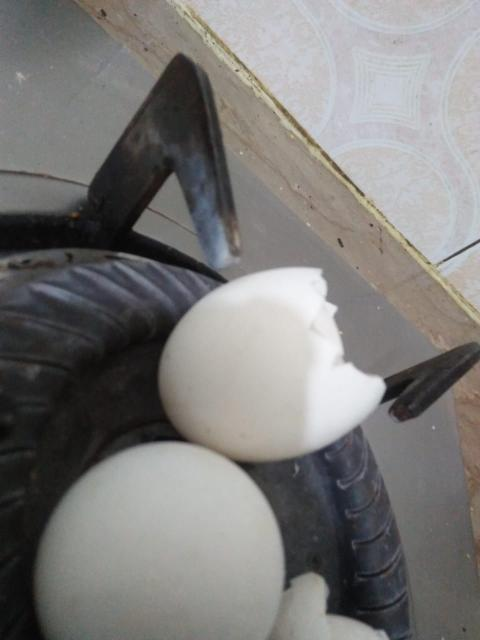Roto: (156, 265, 386, 463), (268, 570, 390, 639)
